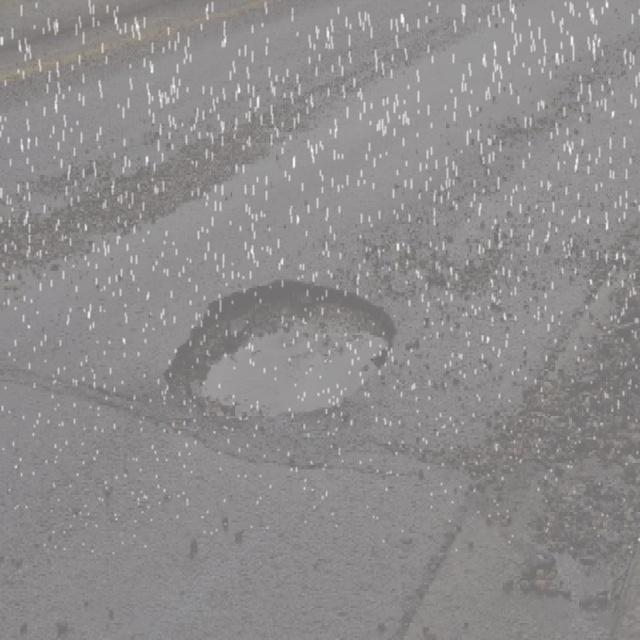Pothole: (148, 256, 404, 426)
